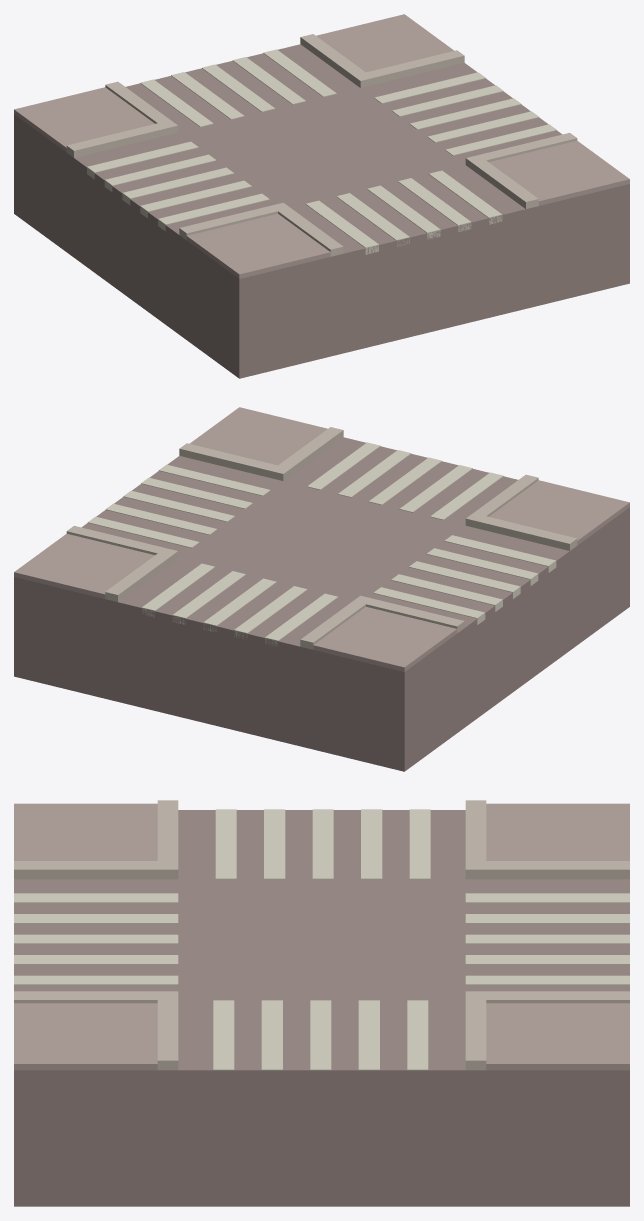
File: Road_4_Crossing.fbx
3 renders of one model, top to bottom at view 1: azimuth 30°, elevation 25°; view 2: azimuth 150°, elevation 25°; view 3: azimuth 270°, elevation 25°, orthographic. The views are drawn at different scales.
Visible parts, largest first — view 1: Road_4_Crossing; view 2: Road_4_Crossing; view 3: Road_4_Crossing.
Part boxes in pixels (x1=…): Road_4_Crossing: x1=14, y1=14, x2=629, y2=378; Road_4_Crossing: x1=14, y1=407, x2=629, y2=771; Road_4_Crossing: x1=14, y1=800, x2=629, y2=1206.
Size of the model in its own units: 400 by 105 by 400.
